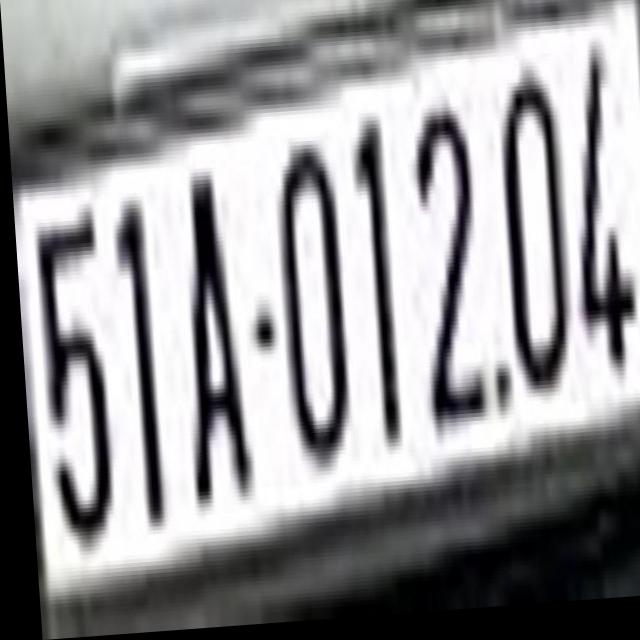0: (489, 38, 567, 410), (268, 125, 349, 477)
1: (108, 178, 162, 549), (346, 110, 397, 457)
2: (406, 105, 487, 442)
4: (563, 53, 638, 386)
5: (28, 205, 112, 554)
A: (168, 161, 250, 503)
